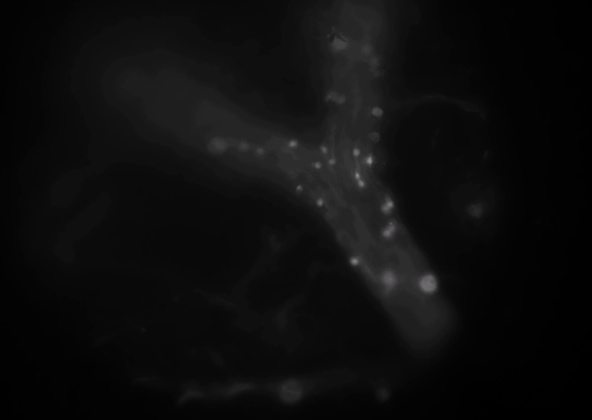cell: (422, 276, 436, 290), (371, 106, 385, 120), (348, 146, 362, 160), (363, 154, 377, 168), (315, 143, 329, 157), (310, 158, 324, 172), (324, 155, 338, 169), (324, 88, 338, 102), (350, 169, 364, 183), (335, 92, 349, 106), (353, 177, 367, 191), (348, 257, 362, 271), (382, 271, 396, 285), (379, 227, 393, 241), (384, 198, 398, 212), (385, 221, 399, 235), (378, 201, 392, 215), (313, 195, 327, 209), (293, 182, 307, 196), (254, 145, 268, 159), (212, 139, 226, 153), (360, 42, 374, 56), (366, 54, 380, 68), (331, 38, 345, 52), (368, 129, 382, 143), (287, 135, 301, 149), (236, 139, 250, 153)
